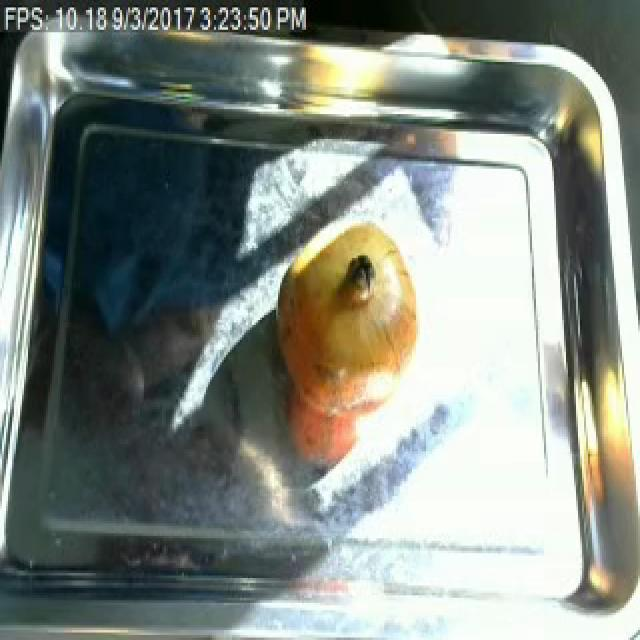fruit: (264, 210, 430, 432)
